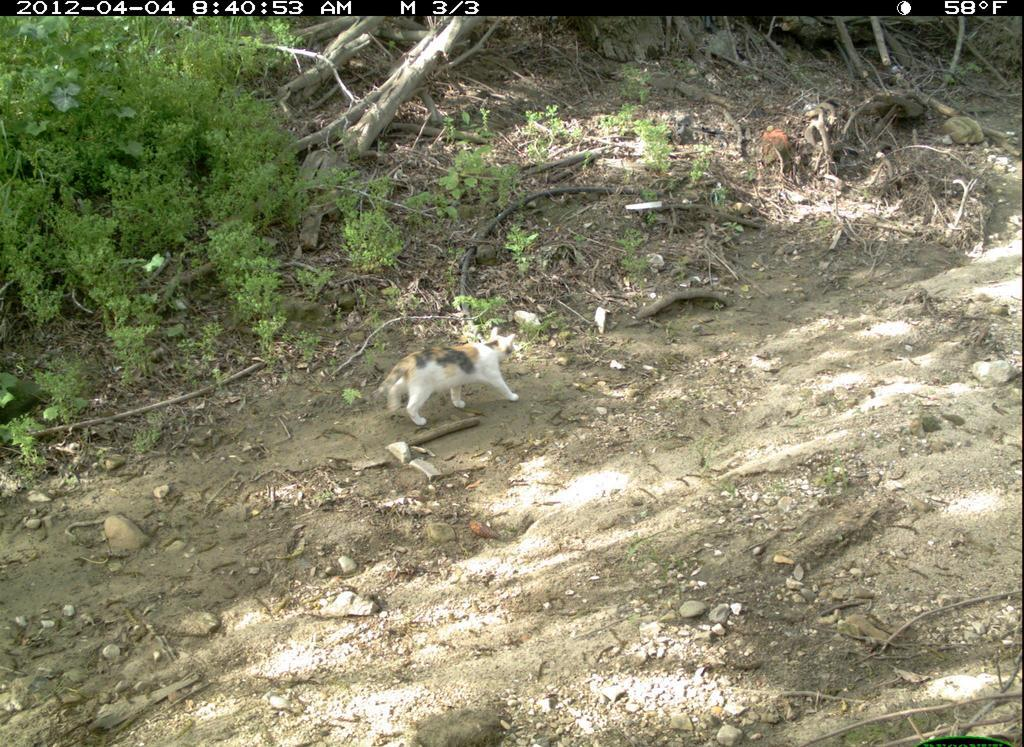cat: (365, 327, 537, 433)
